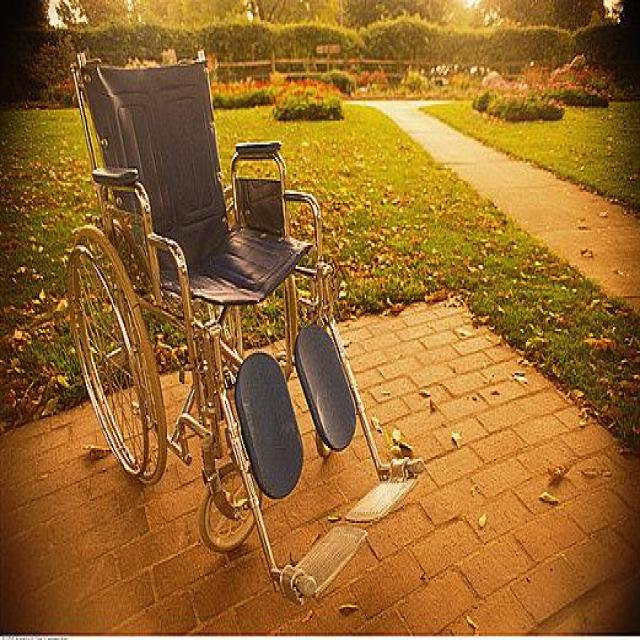wheelchairs: (52, 41, 432, 604)
